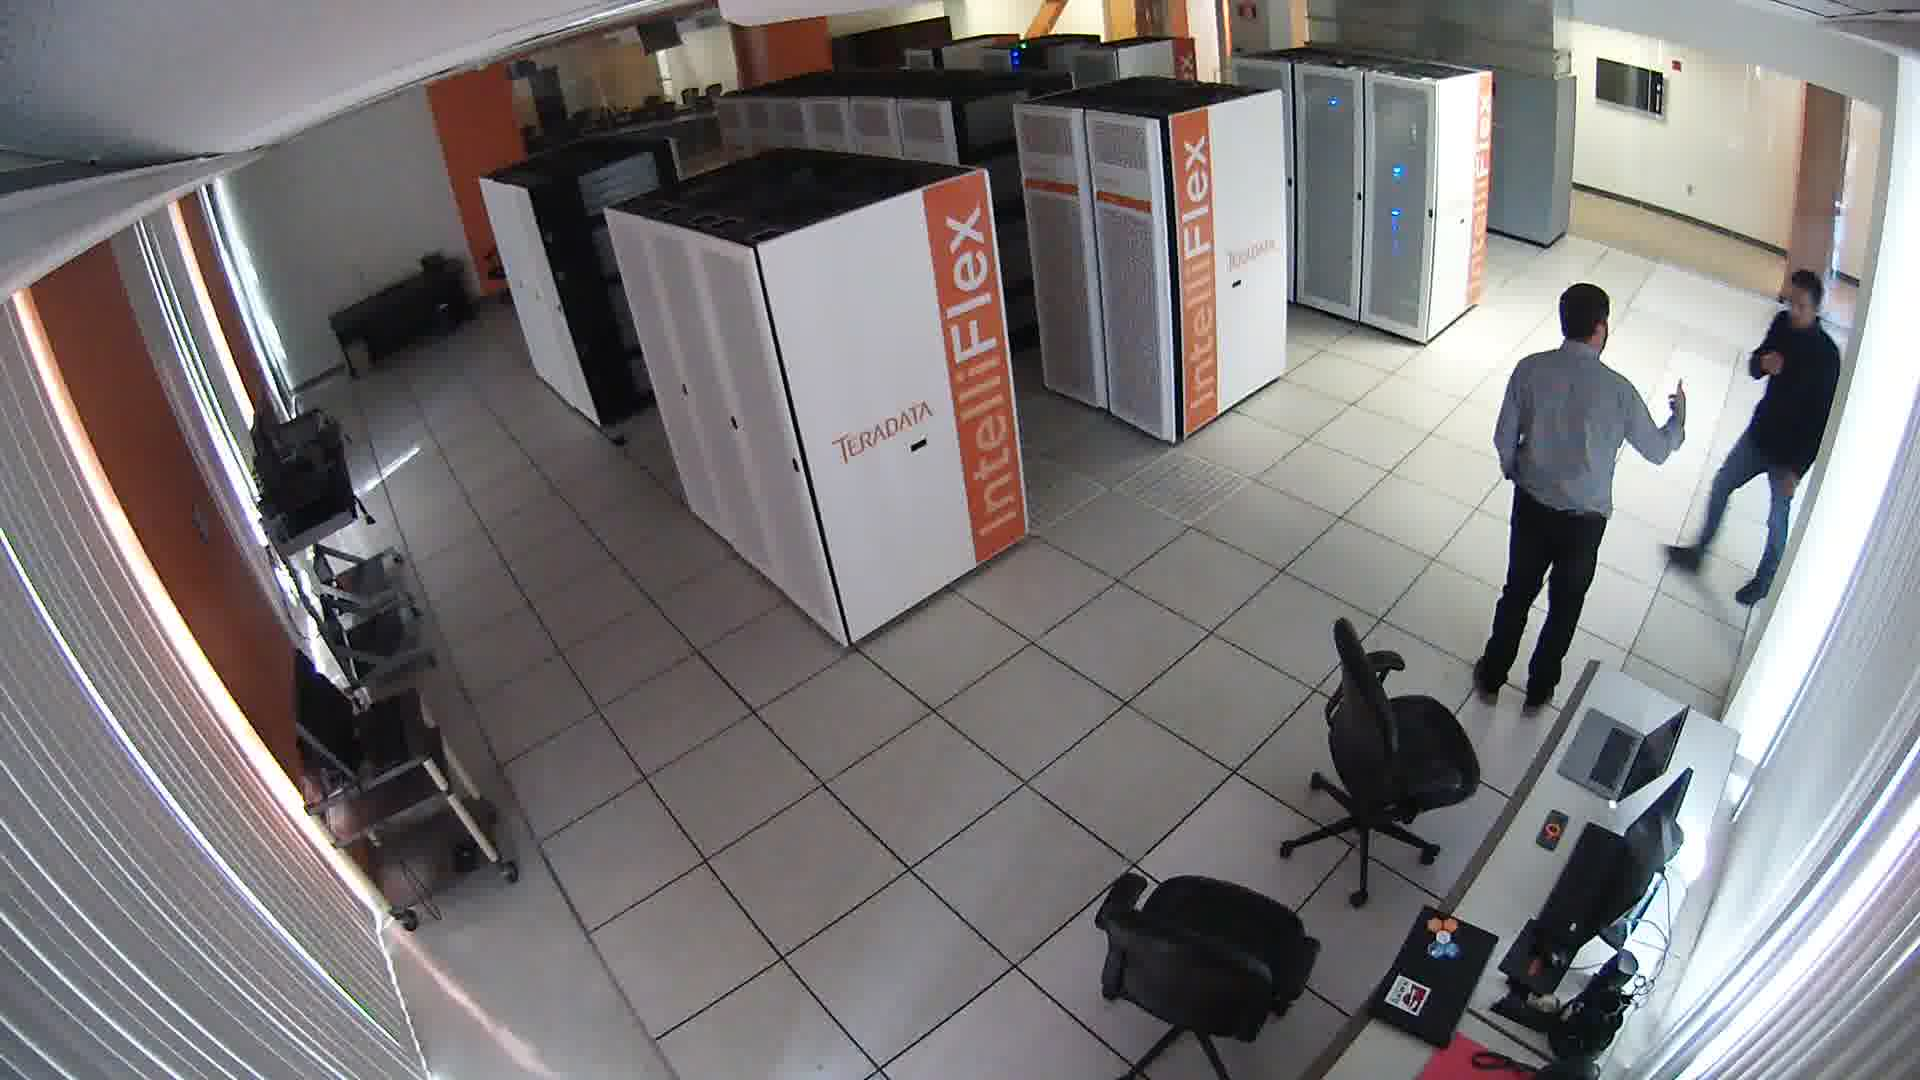person: (1471, 274, 1690, 707), (1672, 270, 1832, 624)
